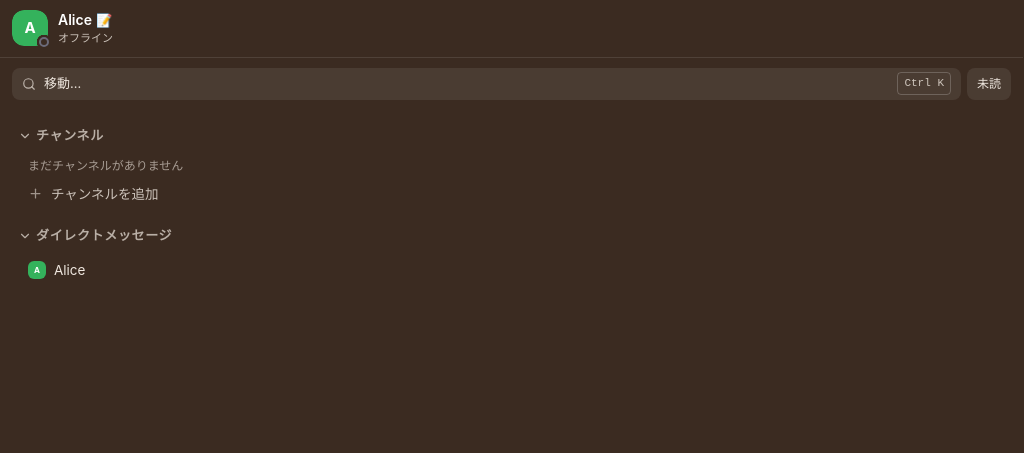
Scenario: my picture and name (sidebar header) › are one button that opens the quick status menu, with 「プロフィールを編集」 (my card opens from my own messages)
The image size is (1024, 453).
Expected: the 1st text "Alice" is shown, [58,10,92,30]
Press Enter in the button with aria-label "自分のステータスを変える", box [10,8,1007,48]
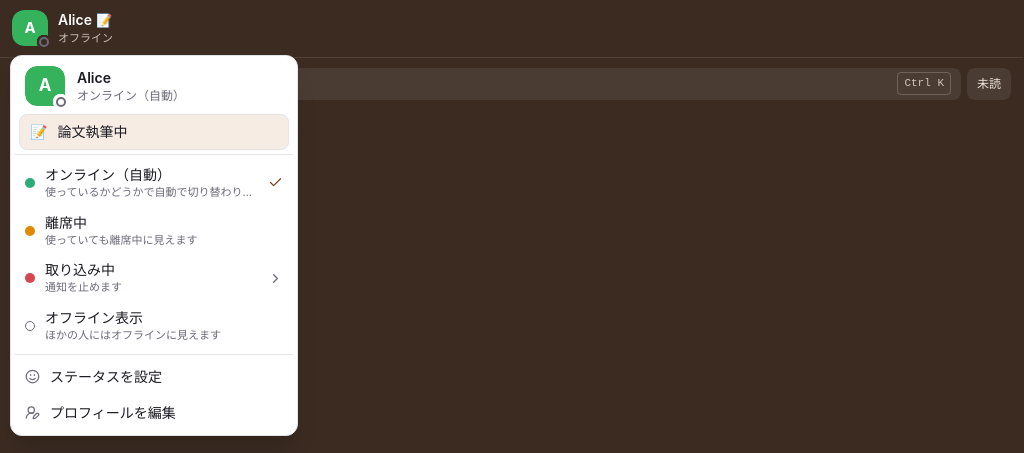
Result: the text "論文執筆中" is shown at [58,123,128,140]
Click the menu item "プロフィールを編集".
click(100, 412)  # box [25,404,176,421]
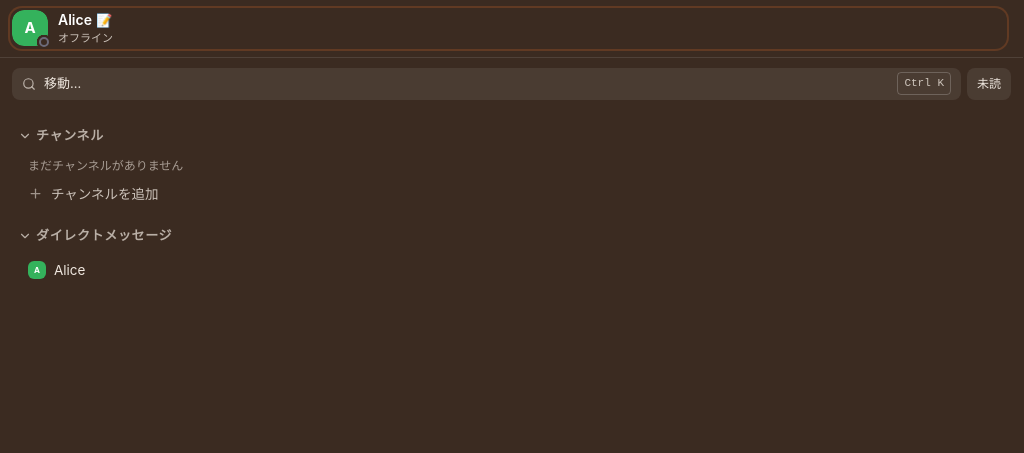
Result: the menu is gone
